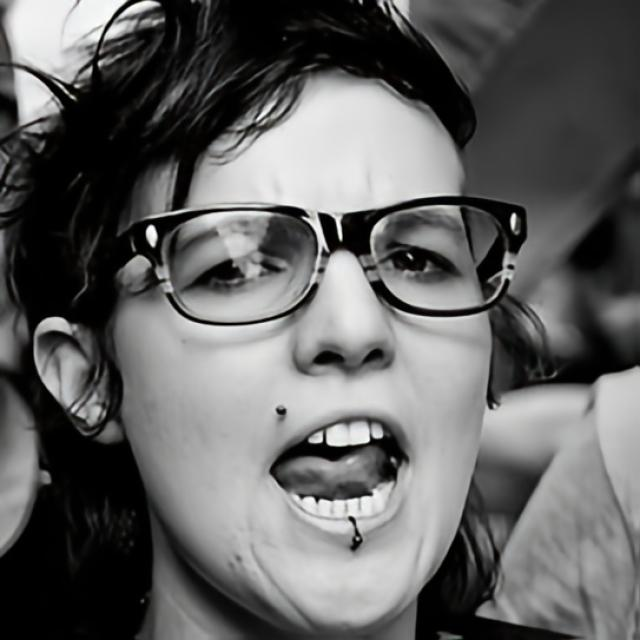anger: (117, 71, 496, 640)
